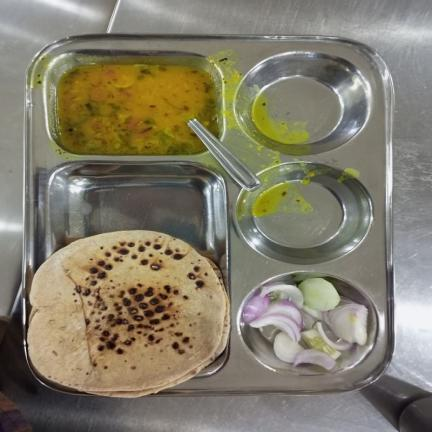Chana Dal: (54, 63, 220, 154)
Plate: (23, 32, 396, 397)
Roti: (26, 230, 232, 398)
Salad: (243, 276, 370, 372)
